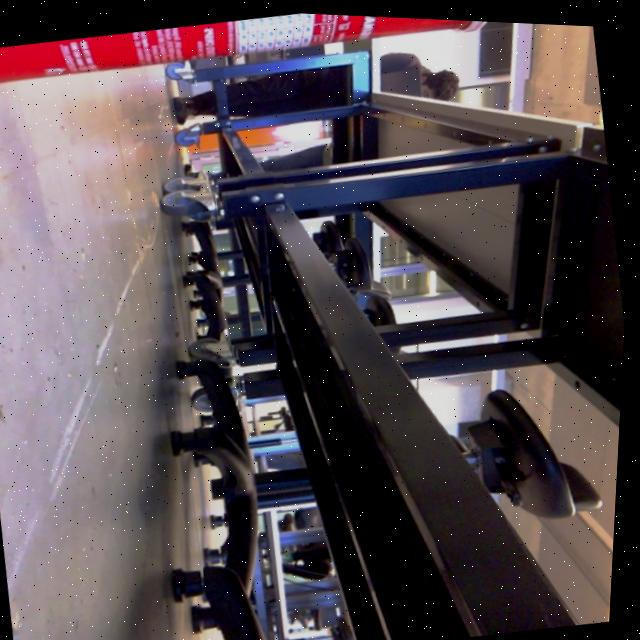redpringles: (0, 0, 524, 127)
